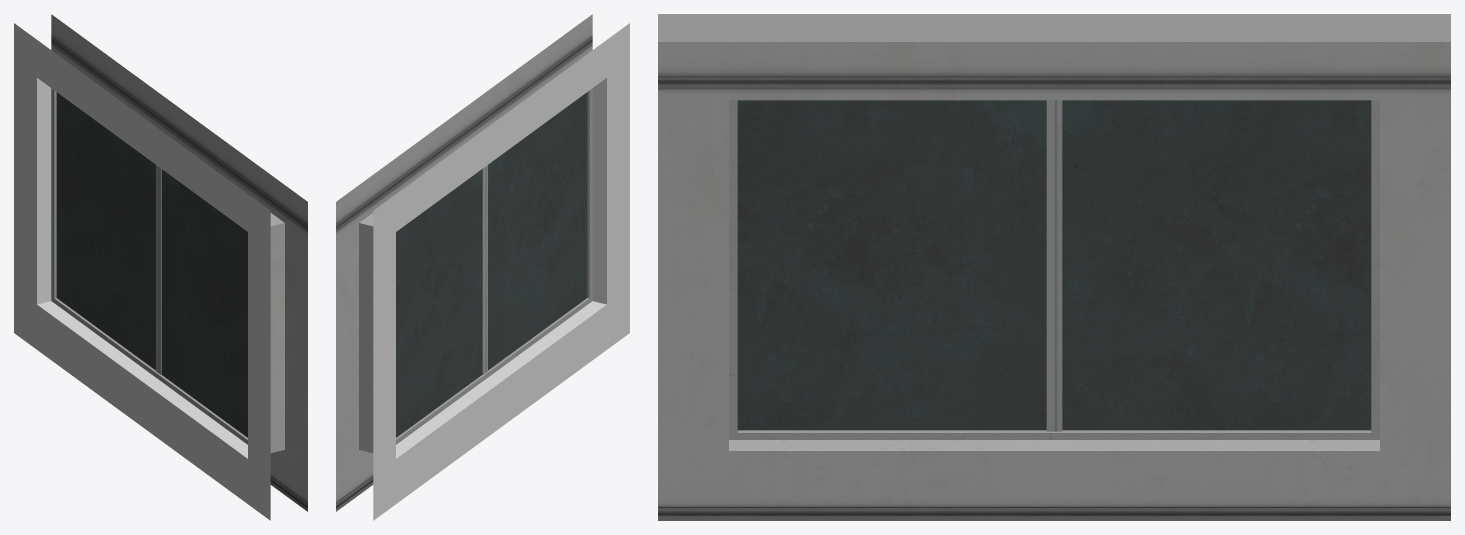
Rendered from MB_Showcase_01.fbx.
3 views of the same model, side by side, from view 1: azimuth 30°, elevation 25°; view 2: azimuth 150°, elevation 25°; view 3: azimuth 270°, elevation 25° (orthographic). The views are drawn at different scales.
Parts seen in each view (by area): view 1: MB_Showcase_01; view 2: MB_Showcase_01; view 3: MB_Showcase_01.
Boxes of the visible parts, x1,y1,x2,y2 form: MB_Showcase_01: (14,14,307,520); MB_Showcase_01: (336,14,629,520); MB_Showcase_01: (658,14,1450,520).
Size of the model in its own units: 50 by 400 by 600.
